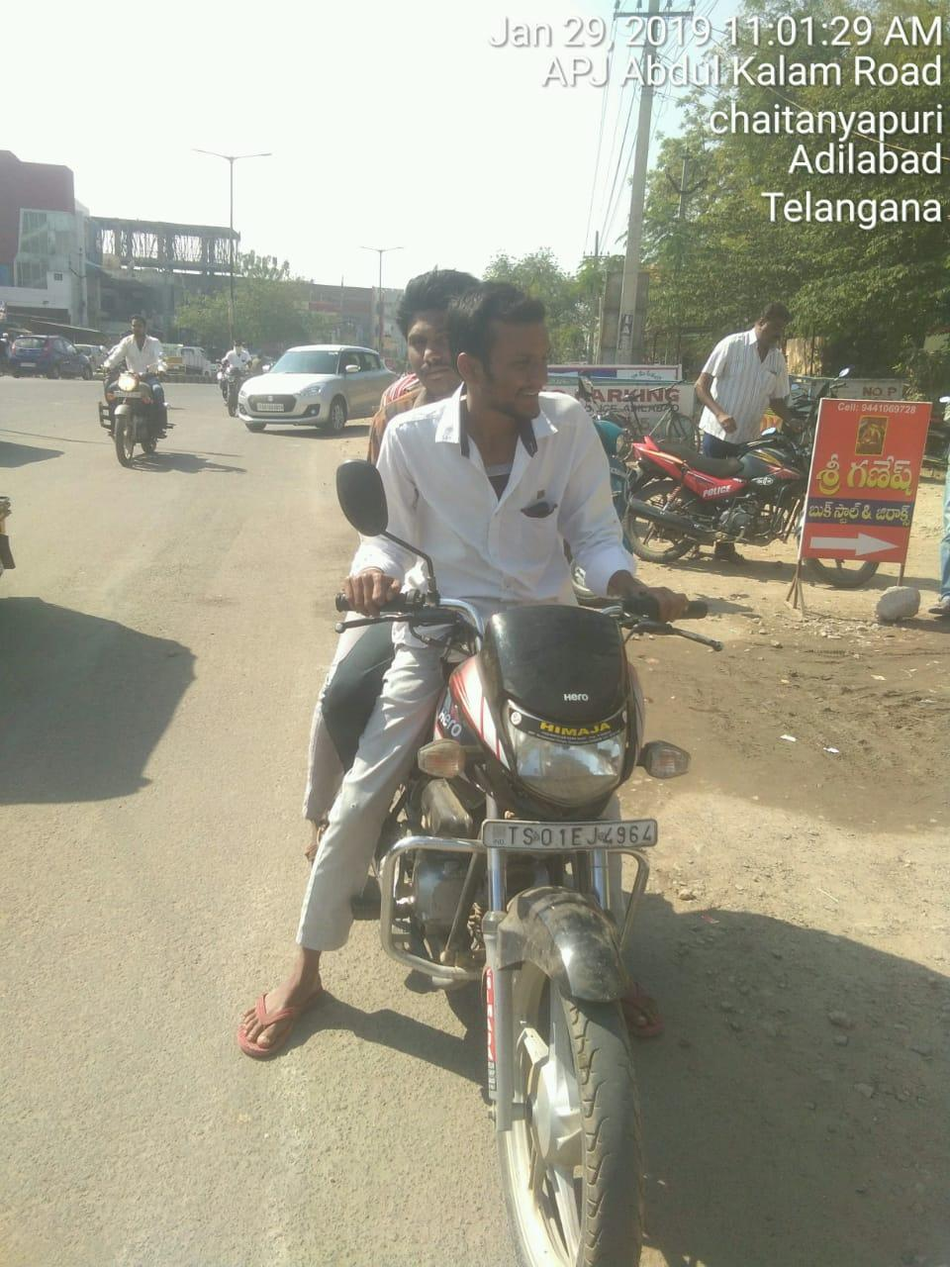plate: (469, 813, 663, 857)
